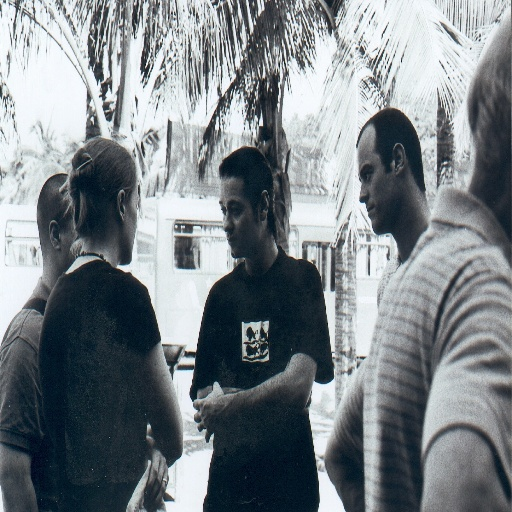hand: (194, 382, 232, 443), (283, 353, 314, 417), (146, 432, 171, 510)
